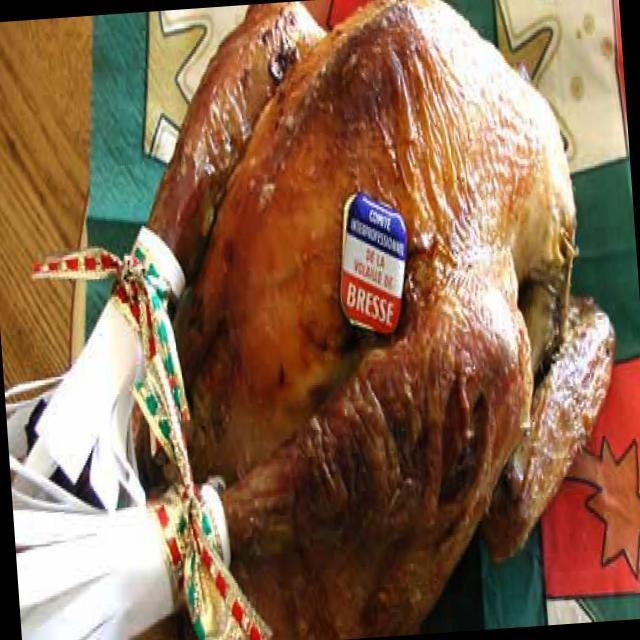Chicken: (122, 0, 595, 619)
